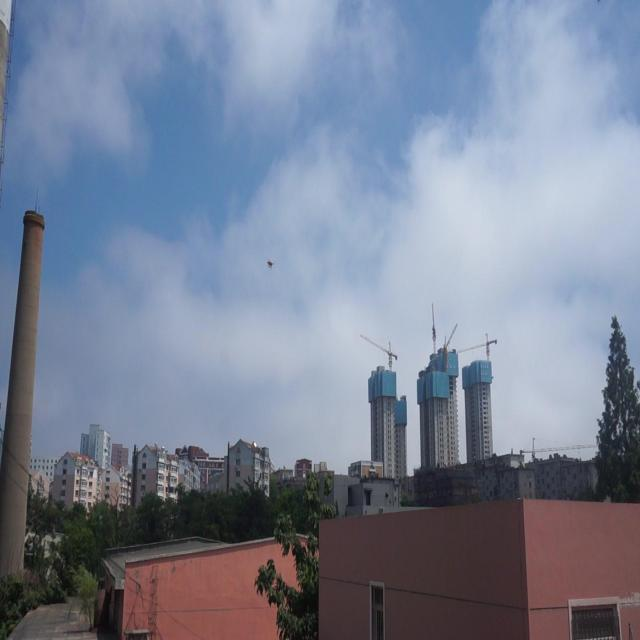UAV: (266, 258, 278, 271)
